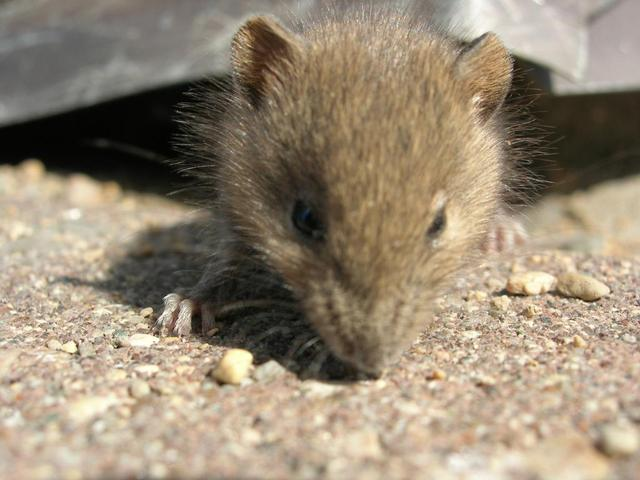mouse: (149, 18, 575, 427)
